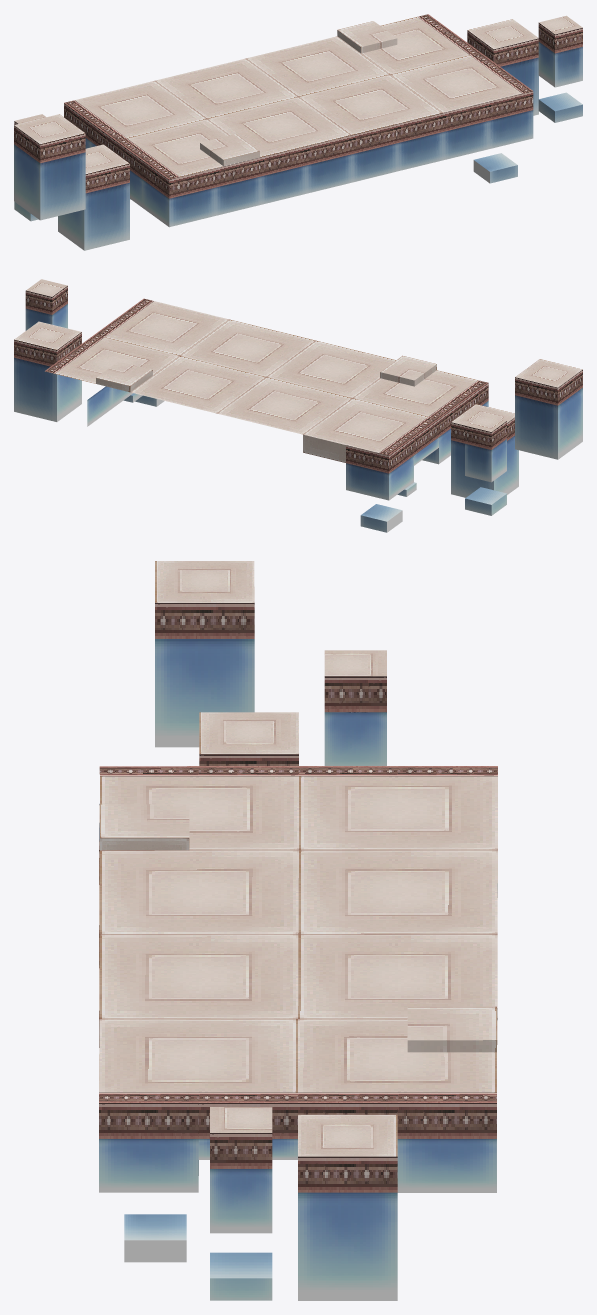
File: a_ESDway07.glb
The picture shows the model from 3 angles, top to bottom: view 1: azimuth 30°, elevation 25°; view 2: azimuth 150°, elevation 25°; view 3: azimuth 270°, elevation 25°; orthographic projection. The views are drawn at different scales.
Visible parts, largest first — view 1: a_ESDway07; view 2: a_ESDway07; view 3: a_ESDway07.
Boxes of the visible parts, left/top/right/bottom form: a_ESDway07: left=14, top=14, right=582, bottom=250; a_ESDway07: left=14, top=279, right=582, bottom=532; a_ESDway07: left=99, top=561, right=497, bottom=1300.
Size of the model in its own units: 6.13 by 1.48 by 2.
Materials: 3 (3 with a texture image).
